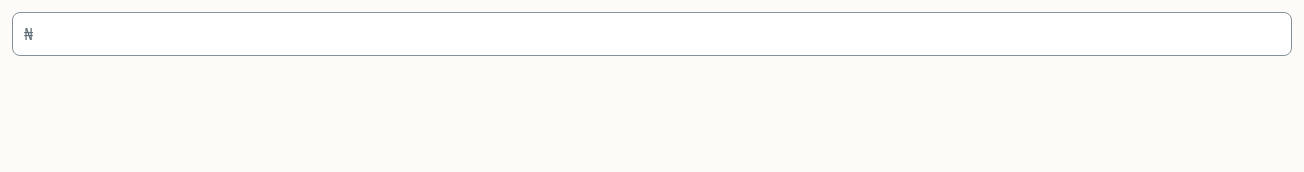
Test: MoneyInput accepts a pasted "₦2,500"
This screenshot has width=1304, height=172.
Click the field named "Amount": (652,34) [12,12,1292,56]
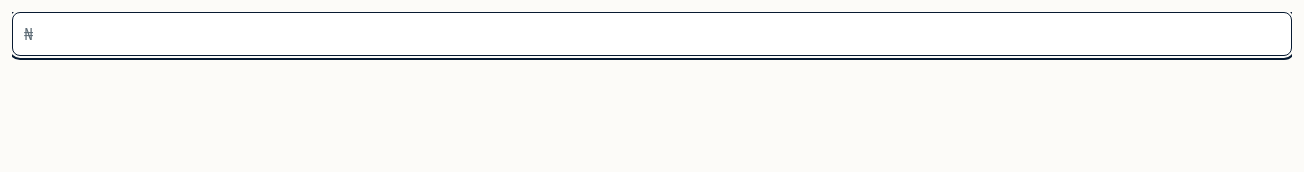
Type keys "₦2,500"
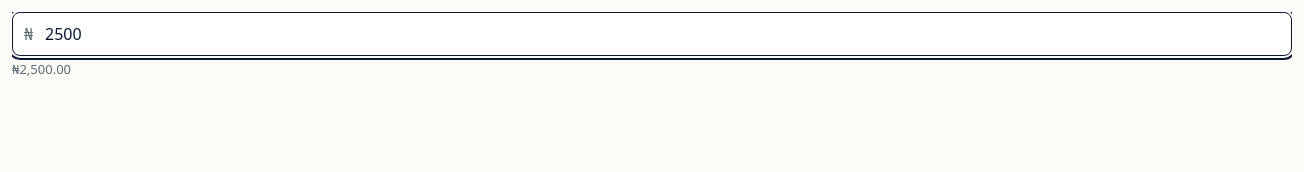
Now the field named "Amount" holds "2500"
Replace the text in the field named "Amount" with "12.5": (652,34) [12,12,1292,56]
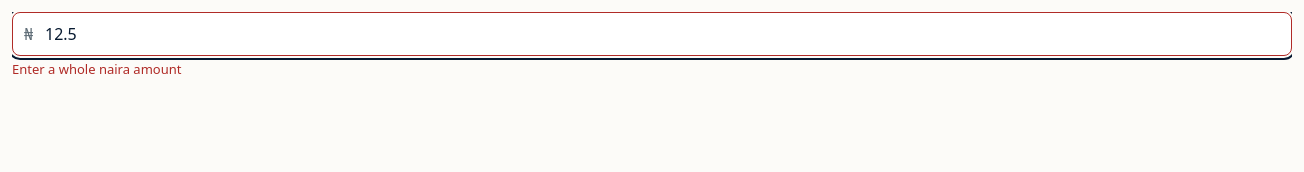
Now the text "Enter a whole naira amount" is shown, box [12,60,181,78]
